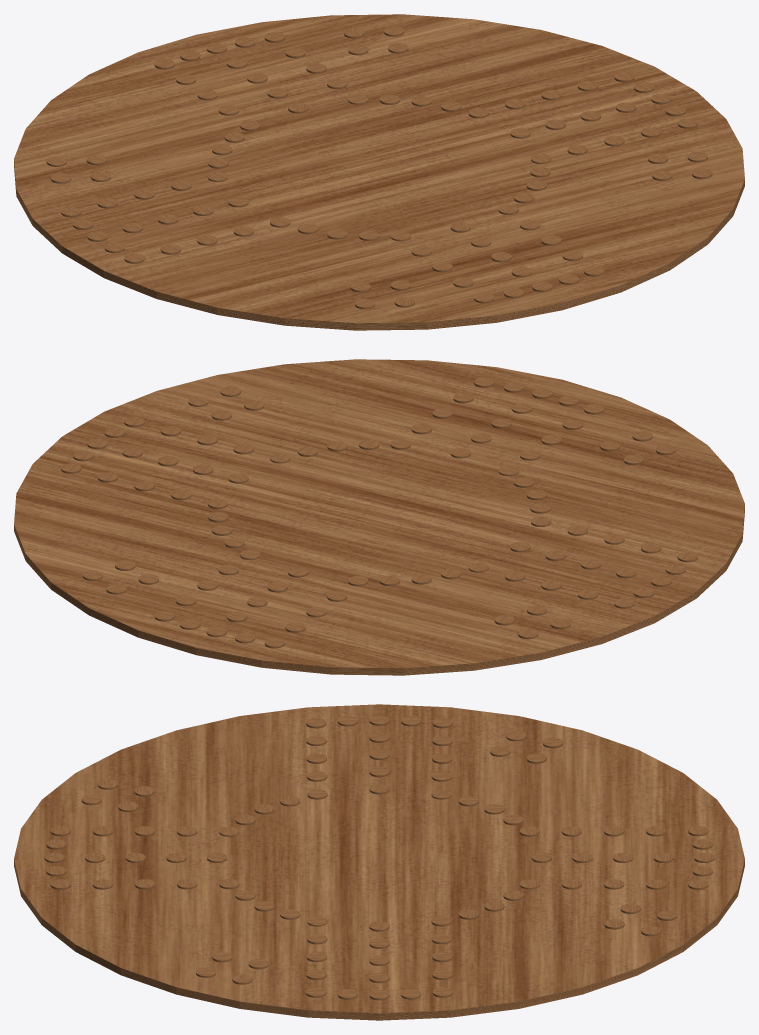
Rendered from keezen-board.glb.
3 views of the same model, one above another, from view 1: azimuth 30°, elevation 25°; view 2: azimuth 150°, elevation 25°; view 3: azimuth 270°, elevation 25° (orthographic).
Visible parts, largest first — view 1: Board; view 2: Board; view 3: Board.
Boxes of the visible parts, x1,y1,x2,y2 form: Board: (14,14,744,330); Board: (14,359,744,675); Board: (14,704,744,1020).
Bounding box in the file's own units: 18 × 0.2536 × 18.
6 materials, 6 textured.
